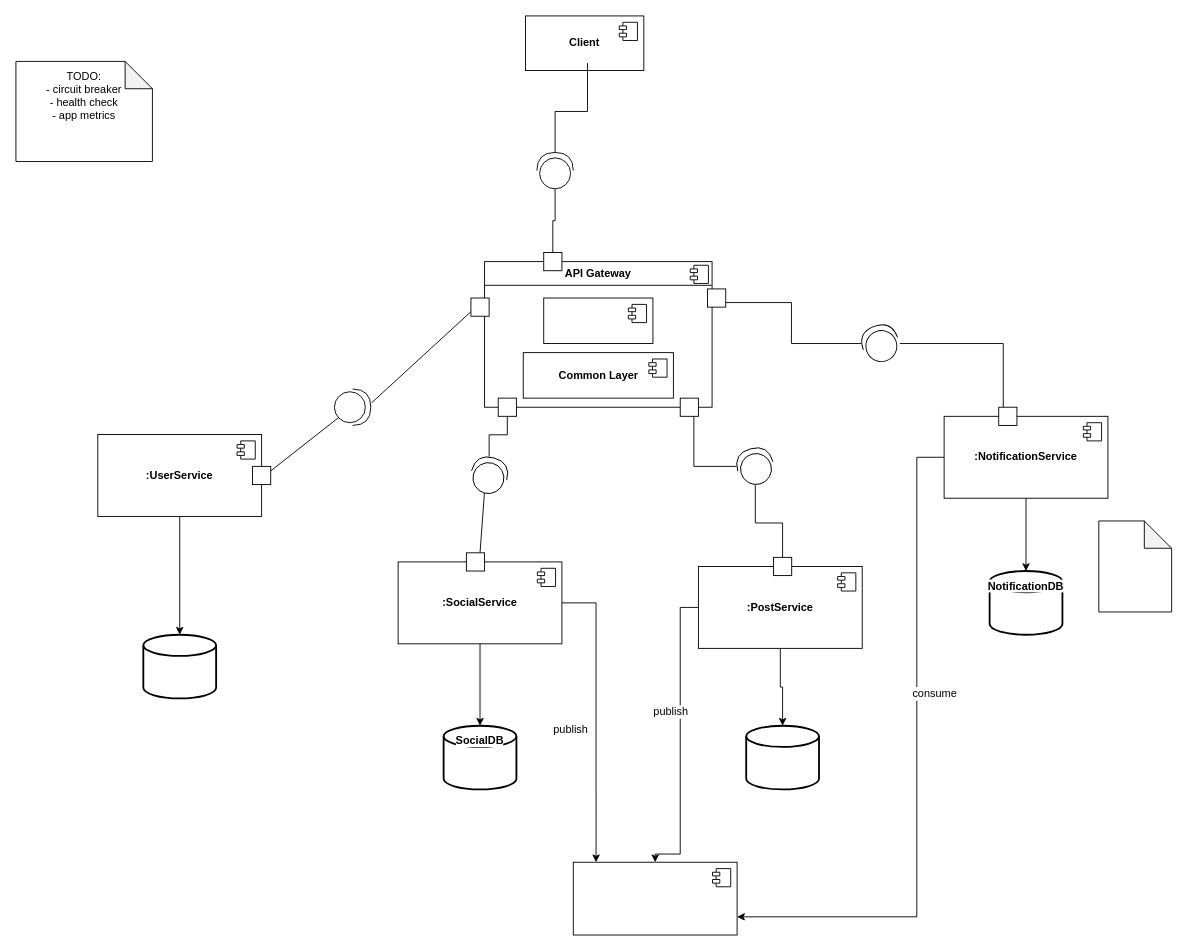
The diagram is 1188 pixels wide and 951 high, and some of its shapes have lost their labels. The shapes that lost their labels are listed below. From the top down, each one's centre as x and y in pixels, then its label:
the point at 598,320: API Layer
the point at 1135,566: event sourcing
the point at 179,666: UserDB
the point at 782,757: PostDB
the point at 654,898: Event Broker
